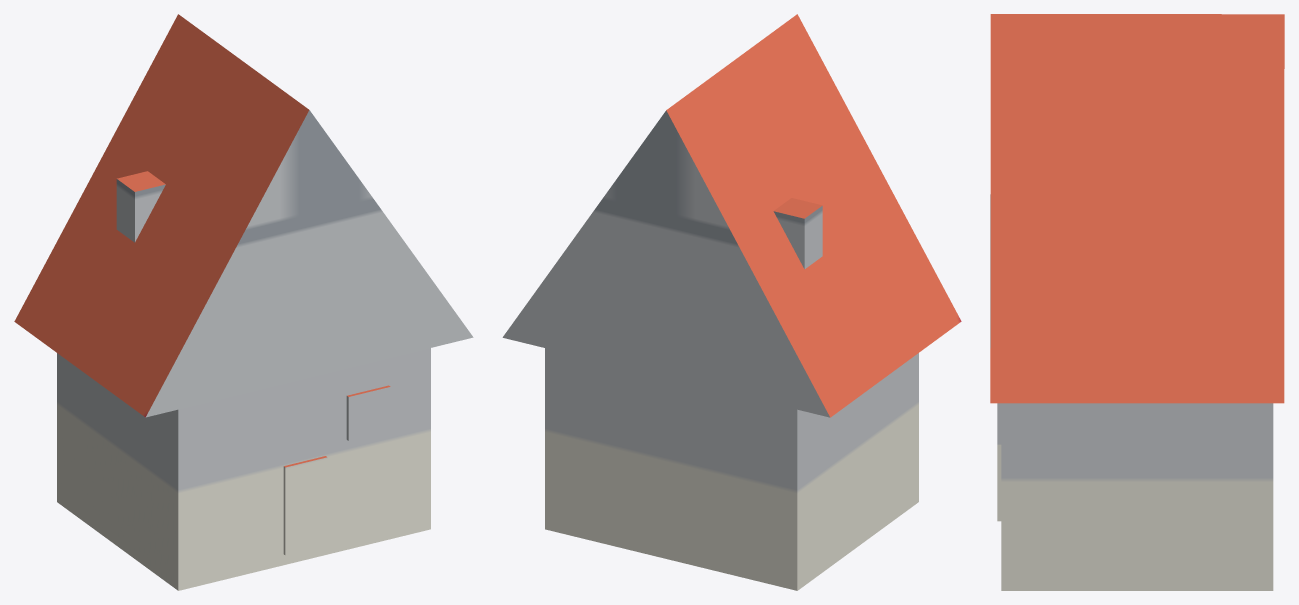
Rendered from LowPoly_House.glb.
3 renders of one model, left to right at view 1: azimuth 30°, elevation 25°; view 2: azimuth 150°, elevation 25°; view 3: azimuth 270°, elevation 25°, orthographic. The views are drawn at different scales.
Visible parts, largest first — view 1: LowPoly_House; view 2: LowPoly_House; view 3: LowPoly_House.
Part boxes in pixels (left/top/right/bottom): LowPoly_House: left=14, top=14, right=473, bottom=590; LowPoly_House: left=502, top=14, right=961, bottom=590; LowPoly_House: left=990, top=14, right=1284, bottom=590.
Size of the model in its own units: 3.12 by 4.12 by 2.16.
Materials: 2 (2 with a texture image).
